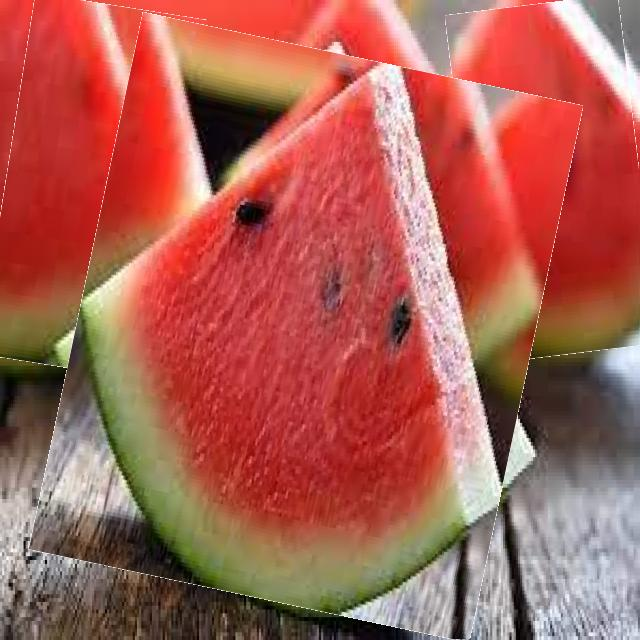watermelon: (55, 33, 557, 622), (0, 0, 193, 374), (455, 0, 640, 358)
